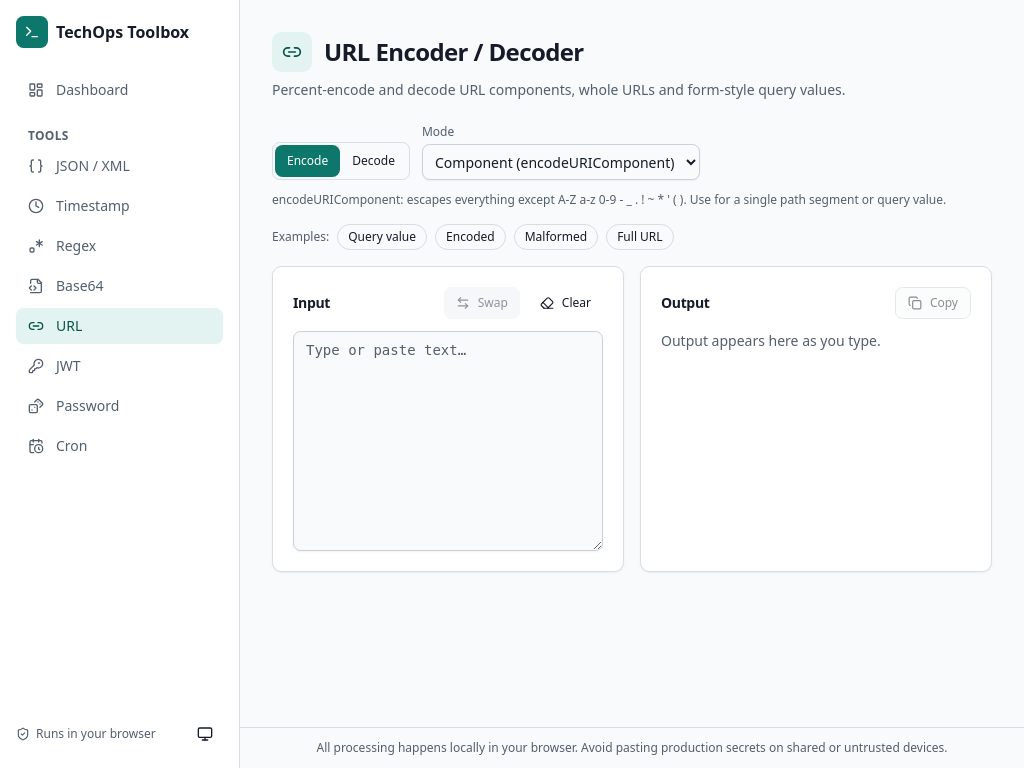
Scenario: URL page › encodes and shows a malformed-encoding explanation when decoding
This screenshot has width=1024, height=768.
In the text box named "Input": (448, 441) [293, 331, 603, 551], type "a b&c"
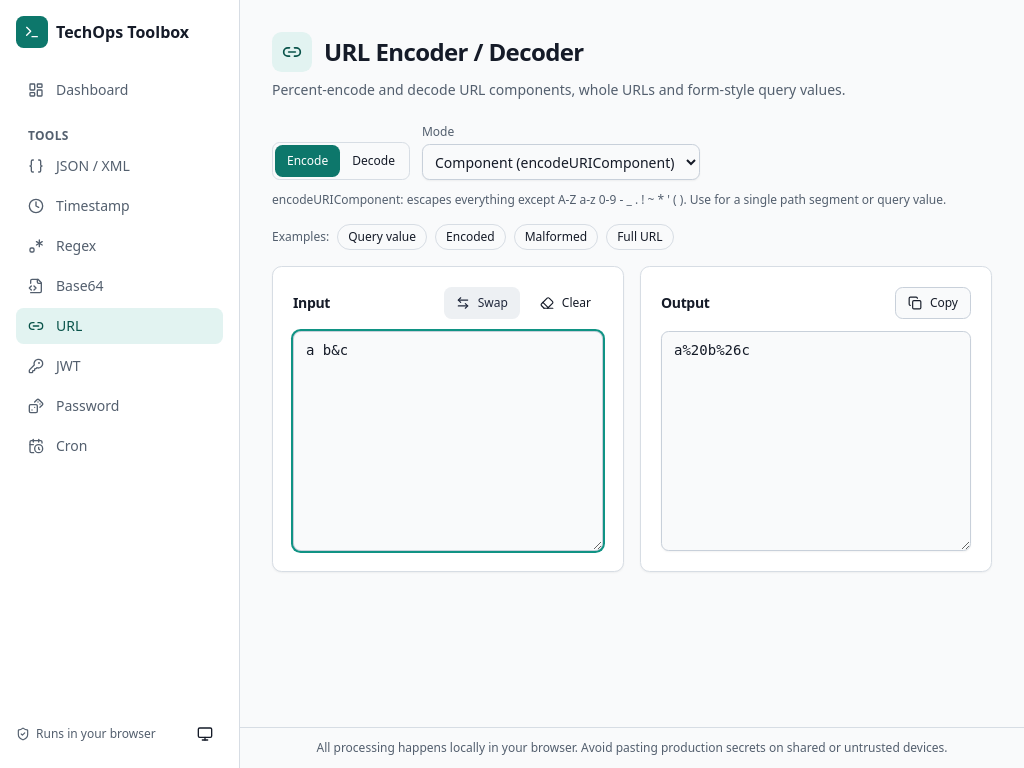
Check: the text box named "Output" holds "a%20b%26c", box [661, 331, 971, 551]
Click the button "Decode": (374, 161) [340, 145, 407, 177]
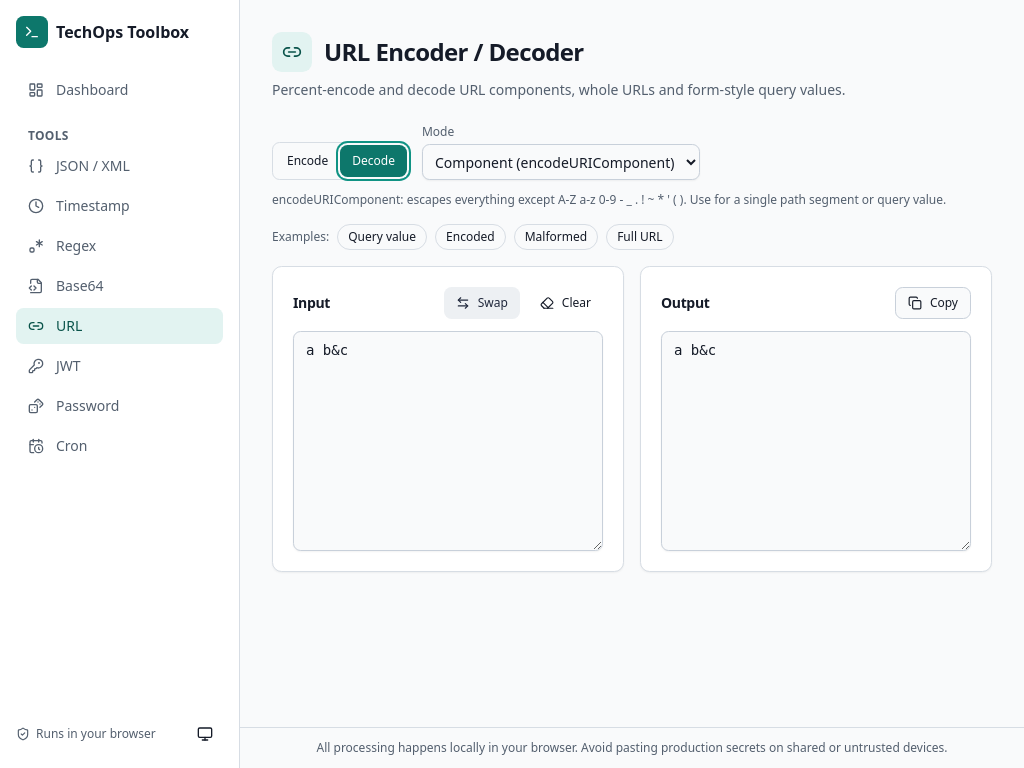
Replace the text in the text box named "Input" with "50% off": (448, 441) [293, 331, 603, 551]
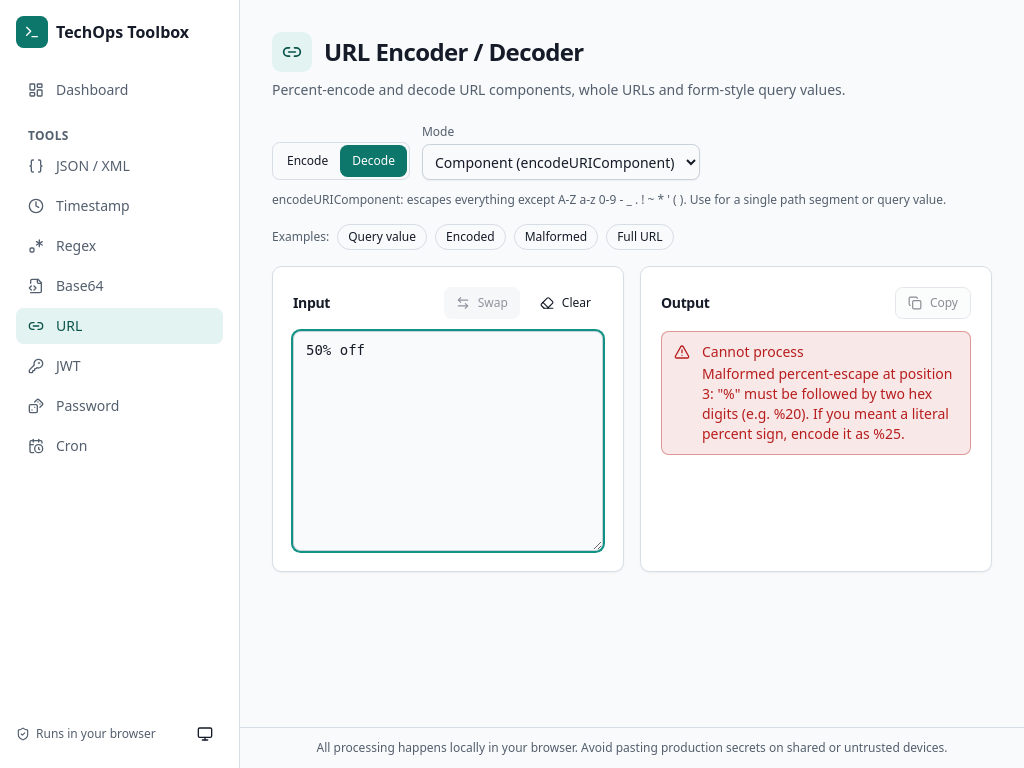
Check: the message shows "two hex digits", box [702, 364, 952, 443]
